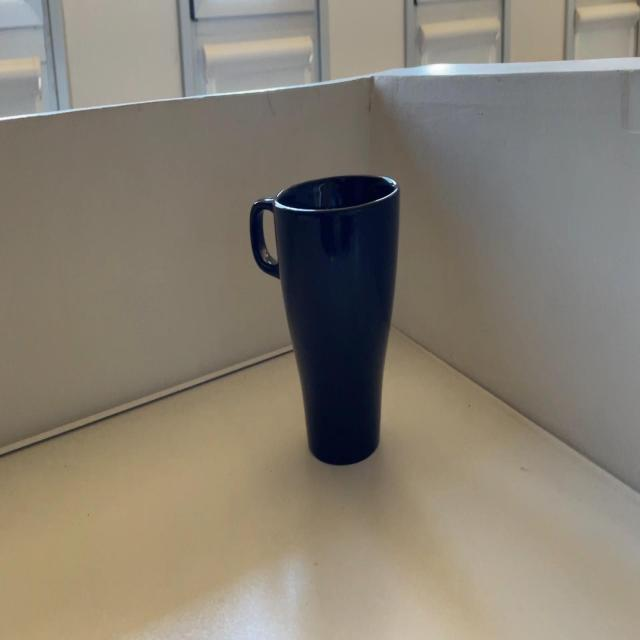cup: (251, 172, 399, 467)
